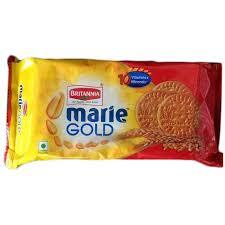VEG: (38, 140, 49, 151)
